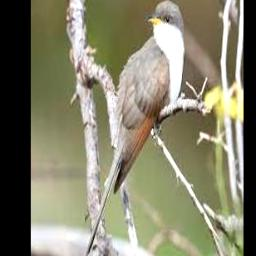Cuckoo: (86, 0, 186, 256)
